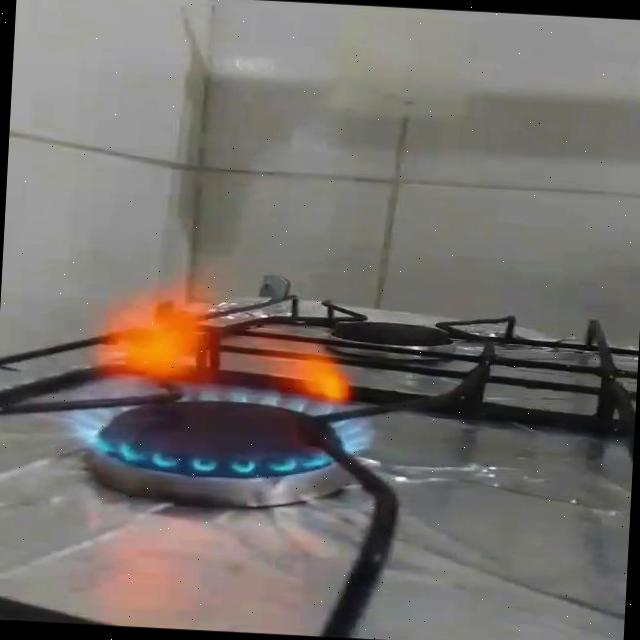fire: (49, 250, 388, 484)
